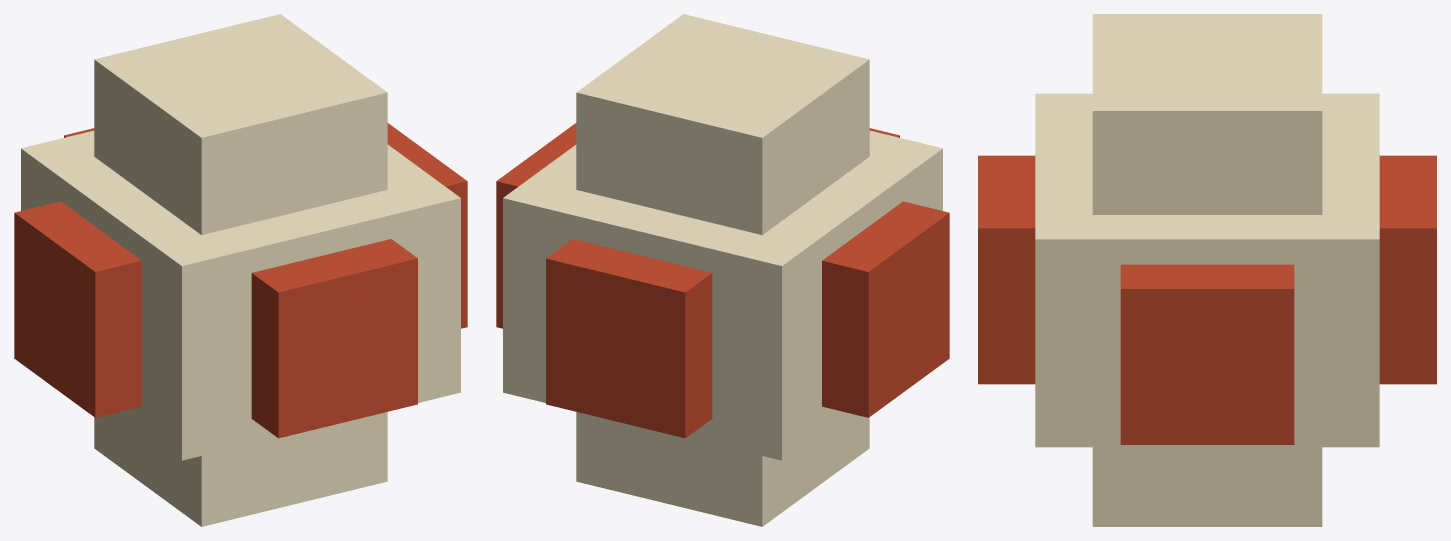
File: egg_yangchuanosaurus.obj
3 renders of one model, left to right at view 1: azimuth 30°, elevation 25°; view 2: azimuth 150°, elevation 25°; view 3: azimuth 270°, elevation 25°, orthographic. The views are drawn at different scales.
Parts seen in each view (by area): view 1: egg_yangchuanosaurus; view 2: egg_yangchuanosaurus; view 3: egg_yangchuanosaurus.
Boxes of the visible parts, left/top/right/bottom form: egg_yangchuanosaurus: left=14, top=14, right=467, bottom=526; egg_yangchuanosaurus: left=496, top=14, right=949, bottom=526; egg_yangchuanosaurus: left=978, top=14, right=1436, bottom=526.
Bounding box in the file's own units: 3.44 × 3.44 × 3.44.
